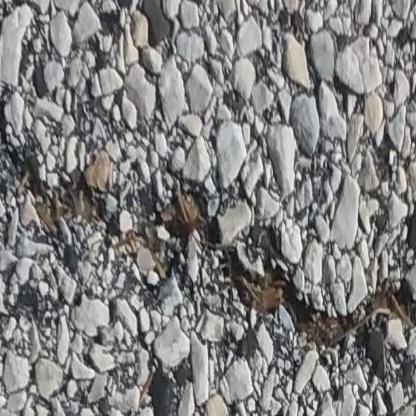Cracks: (220, 241, 416, 348)
